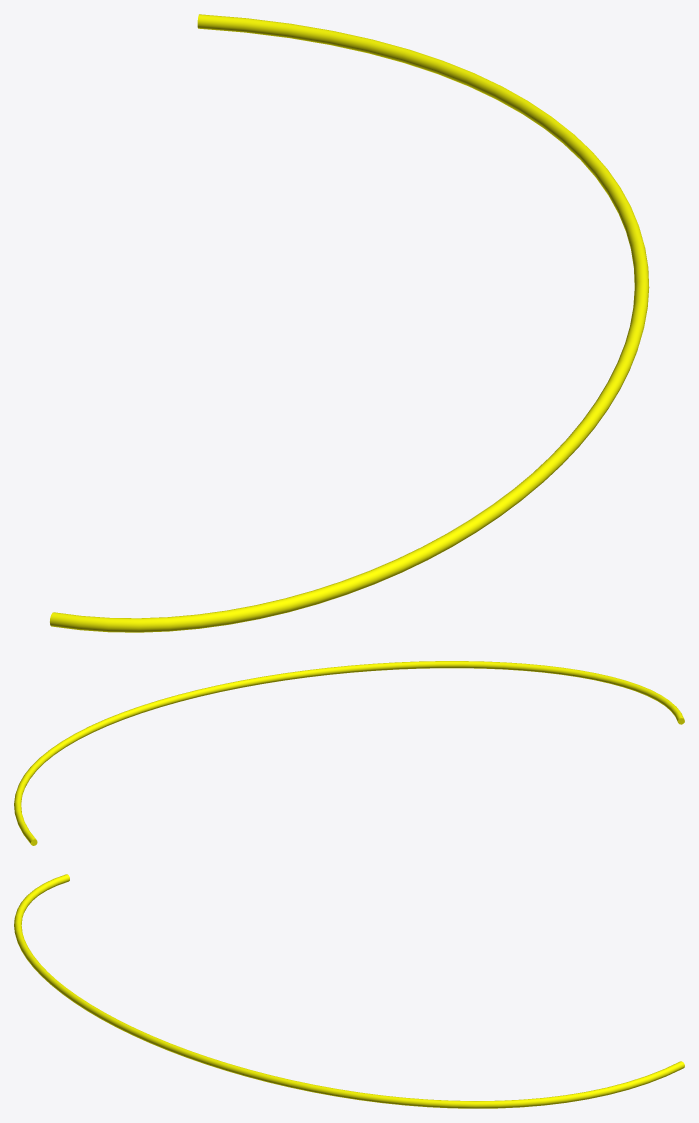
Rendered from path.glb.
3 renders of one model, top to bottom at view 1: azimuth 30°, elevation 25°; view 2: azimuth 150°, elevation 25°; view 3: azimuth 270°, elevation 25°, orthographic. The views are drawn at different scales.
Parts seen in each view (by area): view 1: NurbsPath; view 2: NurbsPath; view 3: NurbsPath.
Boxes of the visible parts, <box> form: NurbsPath: <box>50,14,649,632</box>; NurbsPath: <box>14,661,684,845</box>; NurbsPath: <box>14,874,684,1108</box>.
Size of the model in its own units: 2.83 by 0.0523 by 3.46.
